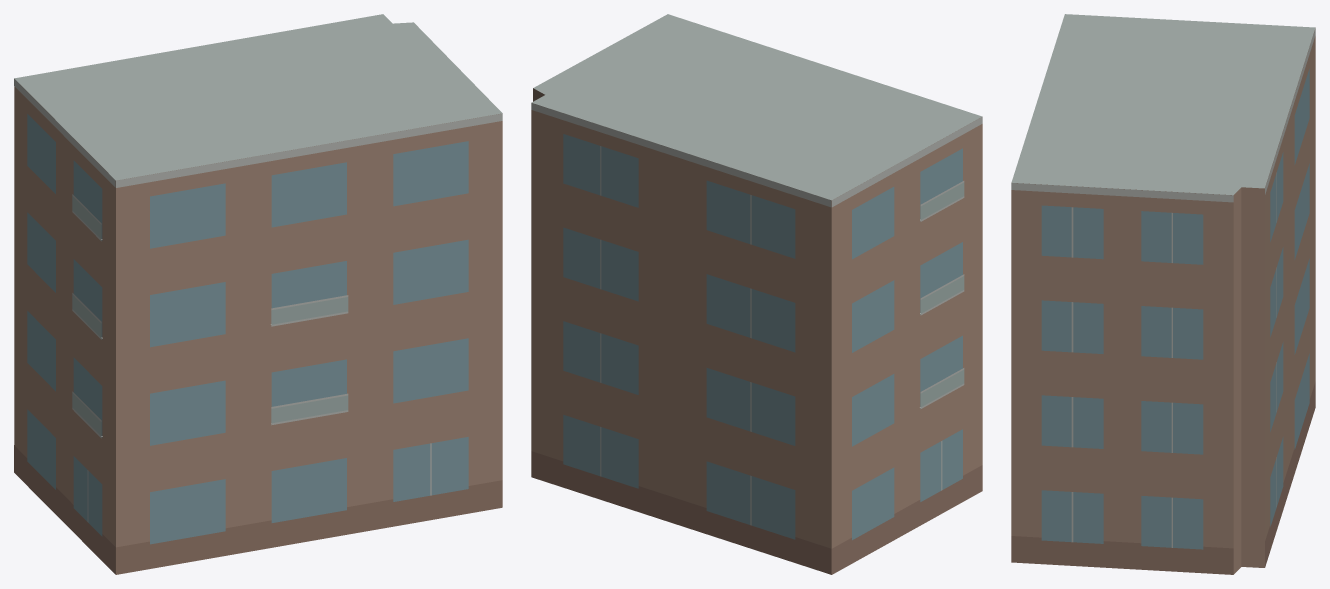
File: survey-upis-32962394.glb
3 views of the same model, side by side, from view 1: azimuth 30°, elevation 25°; view 2: azimuth 150°, elevation 25°; view 3: azimuth 270°, elevation 25° (orthographic). The views are drawn at different scales.
Visible parts, largest first — view 1: survey-upis-32962394.tmp; view 2: survey-upis-32962394.tmp; view 3: survey-upis-32962394.tmp.
Boxes of the visible parts, x1,y1,x2,y2 form: survey-upis-32962394.tmp: (14,14,502,574); survey-upis-32962394.tmp: (531,14,982,574); survey-upis-32962394.tmp: (1011,14,1315,574).
Size of the model in its own units: 13.11 by 12.8 by 9.31.
